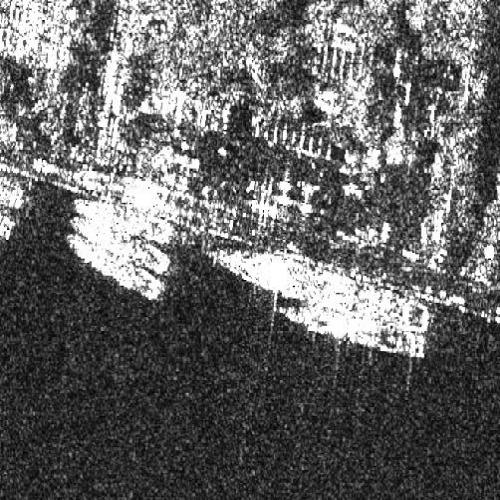ship: (207, 249, 431, 333), (277, 304, 426, 359), (66, 236, 167, 300), (69, 217, 171, 277), (75, 200, 177, 247)
